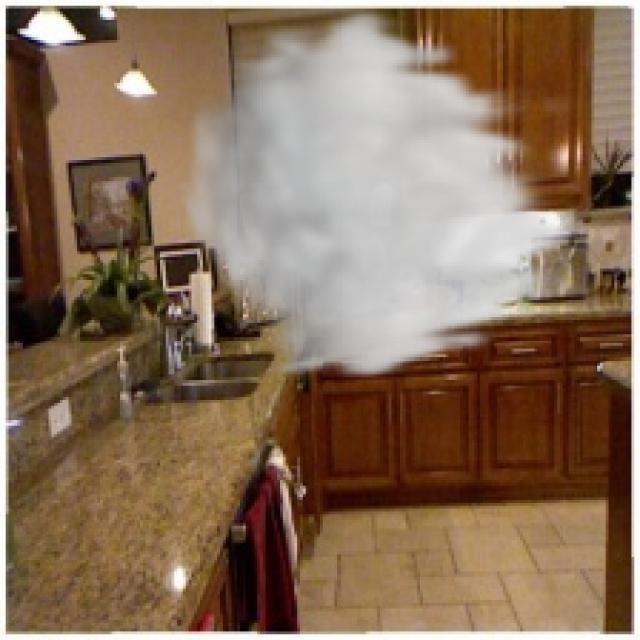Smoke: (174, 3, 589, 383)
